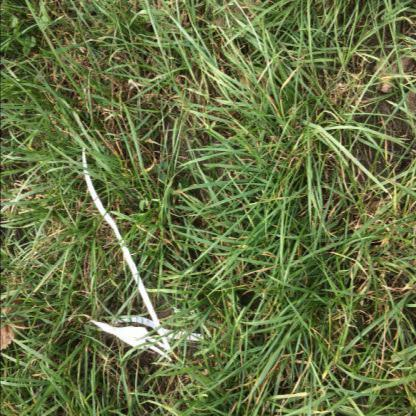Other litter: (82, 148, 170, 351), (91, 320, 171, 361), (112, 317, 203, 342)
